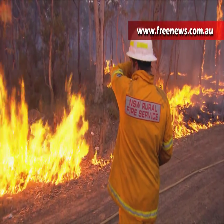fire_h: (1, 60, 88, 197), (166, 84, 224, 139)
fire_l: (92, 148, 113, 166), (103, 59, 114, 74), (216, 1, 222, 20), (156, 78, 163, 91), (198, 73, 211, 80), (211, 80, 224, 87), (177, 71, 188, 76), (107, 82, 112, 87), (170, 71, 174, 75)
